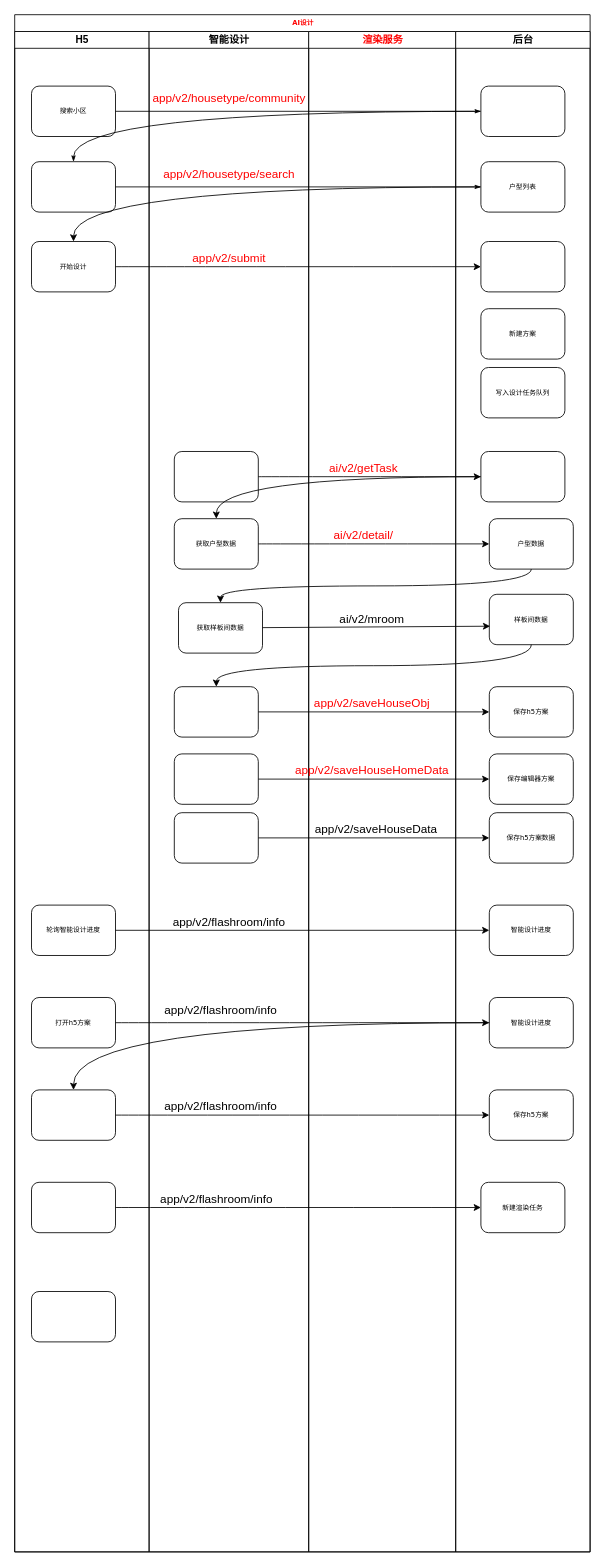
The diagram is 605 pixels wide and 1567 high, and some of its shapes have lost their labels. The centre of each missing label's shape, as x and y in pixels:
"上传h5方案obj" goes at point 215,711.
"上传h5方案数据" goes at point 215,837.
"上传编辑器方案" goes at point 215,778.
"任务队列" goes at point 522,476.
"匹配样板间" goes at point 522,266.
"小区列表" goes at point 522,110.
"展示户型列表" goes at point 73,186.
"展示渲染" goes at point 73,1316.
"新建渲染" goes at point 73,1207.
"编辑h5方案" goes at point 73,1114.
"轮询设计任务队列" goes at point 215,476.
